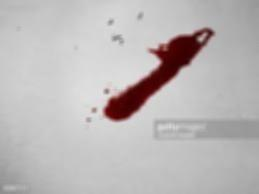Fire: (102, 28, 215, 121)
